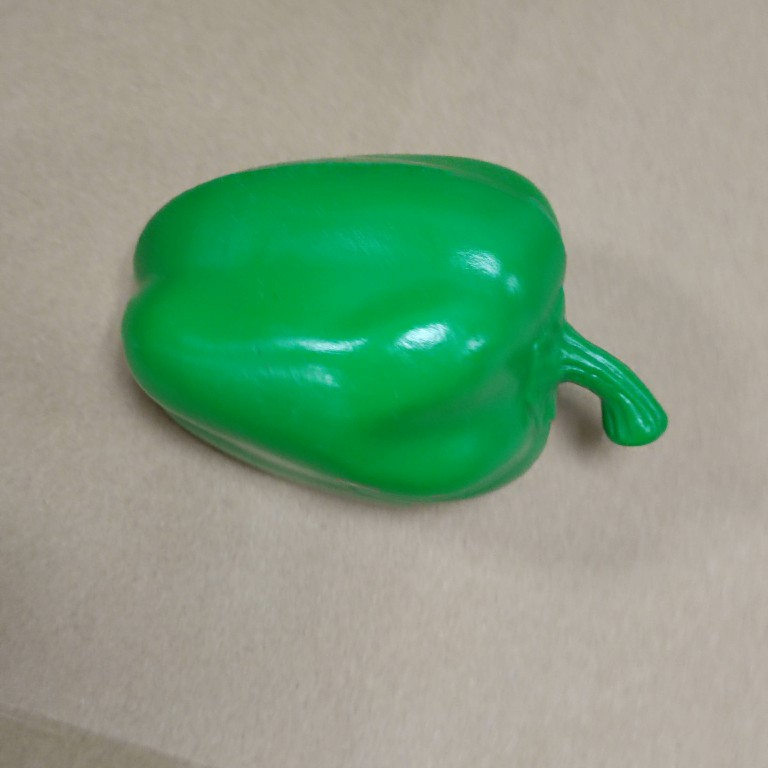fruit_pepper: (117, 148, 677, 511)
